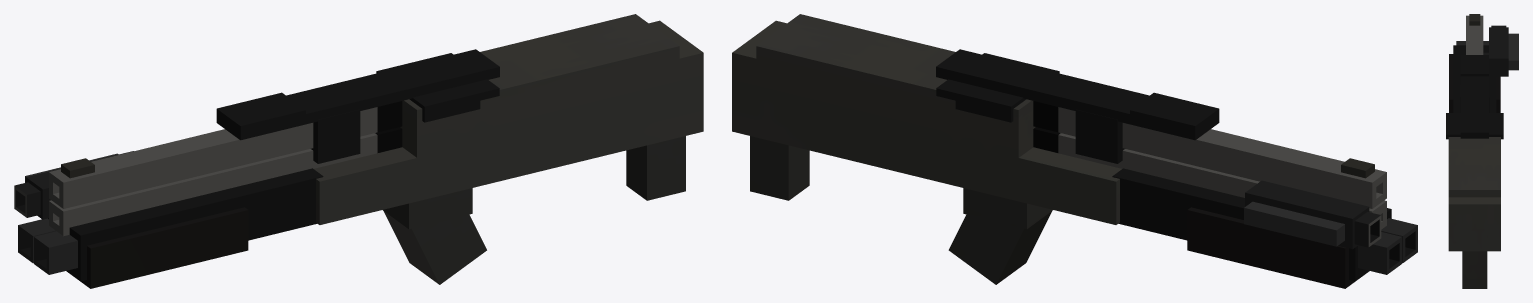
File: CubeShotgun.fbx
3 views of the same model, side by side, from view 1: azimuth 30°, elevation 25°; view 2: azimuth 150°, elevation 25°; view 3: azimuth 270°, elevation 25° (orthographic). The views are drawn at different scales.
Parts seen in each view (by area): view 1: Cube; view 2: Cube; view 3: Cube.
Boxes of the visible parts, left/top/right/bottom form: Cube: left=14, top=14, right=703, bottom=288; Cube: left=732, top=14, right=1417, bottom=288; Cube: left=1446, top=14, right=1518, bottom=288.
Bounding box in the file's own units: 940 × 283 × 154.
